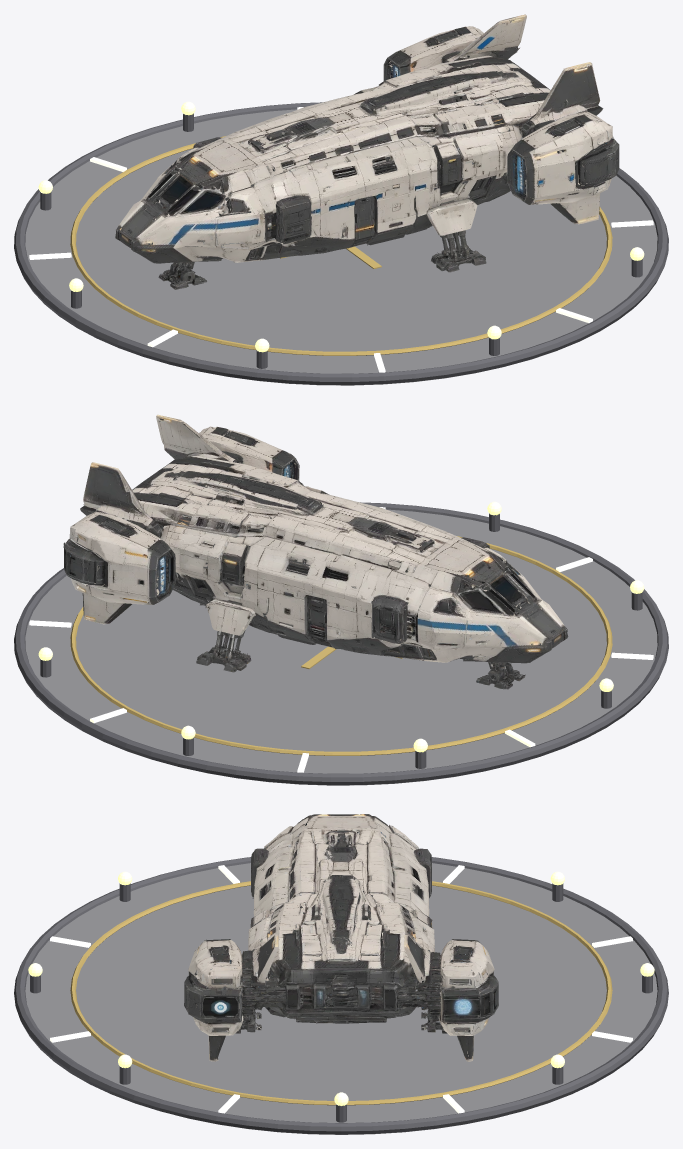
Rendered from shuttle.0f334b8d4889.glb.
3 renders of one model, top to bottom at view 1: azimuth 30°, elevation 25°; view 2: azimuth 150°, elevation 25°; view 3: azimuth 270°, elevation 25°, orthographic.
Parts seen in each view (by area): view 1: pad_deck, MF_Shuttle_body, pad_kerb, pad_ring_marking; view 2: pad_deck, MF_Shuttle_body, pad_kerb, pad_ring_marking; view 3: pad_deck, MF_Shuttle_body, pad_kerb, pad_ring_marking.
Part boxes in pixels (x1,y1,x2,y2): pad_deck: (25, 109, 657, 385); MF_Shuttle_body: (115, 14, 619, 289); pad_kerb: (14, 102, 668, 385); pad_ring_marking: (70, 136, 612, 355); pad_deck: (25, 509, 657, 785); MF_Shuttle_body: (63, 414, 568, 689); pad_kerb: (14, 502, 668, 785); pad_ring_marking: (70, 536, 612, 755); pad_deck: (25, 863, 657, 1134); MF_Shuttle_body: (184, 814, 498, 1061); pad_kerb: (14, 857, 668, 1134); pad_ring_marking: (70, 881, 612, 1105).
Size of the model in its own units: 23.44 by 6.24 by 23.44.
6 materials, 1 textured.
